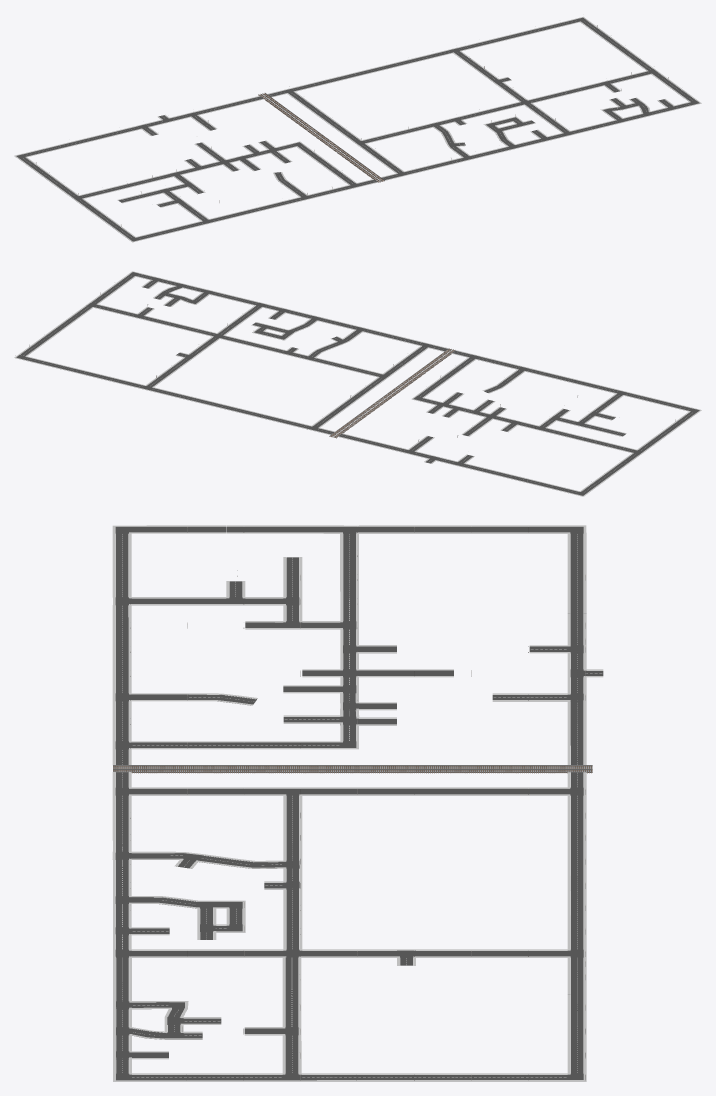
File: road-optimized.glb
3 renders of one model, top to bottom at view 1: azimuth 30°, elevation 25°; view 2: azimuth 150°, elevation 25°; view 3: azimuth 270°, elevation 25°, orthographic. The views are drawn at different scales.
Bounding box in the file's own units: 190 × 0.9829 × 70.77.
202 materials, 166 textured.
